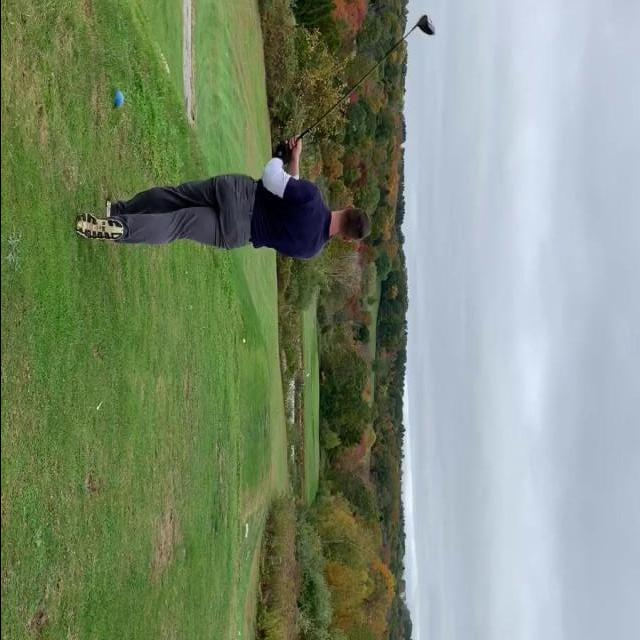golf ball: (241, 338, 245, 343)
golf club-handle: (298, 15, 435, 138)
golf club-head: (416, 14, 435, 35)
